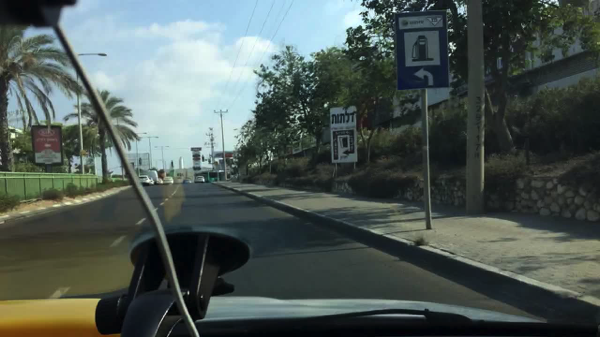car: (145, 170, 157, 184), (162, 176, 174, 185), (140, 176, 151, 185), (195, 175, 204, 184), (176, 178, 182, 185), (184, 179, 192, 184), (156, 179, 162, 184)
traffic sign: (394, 11, 450, 89)
